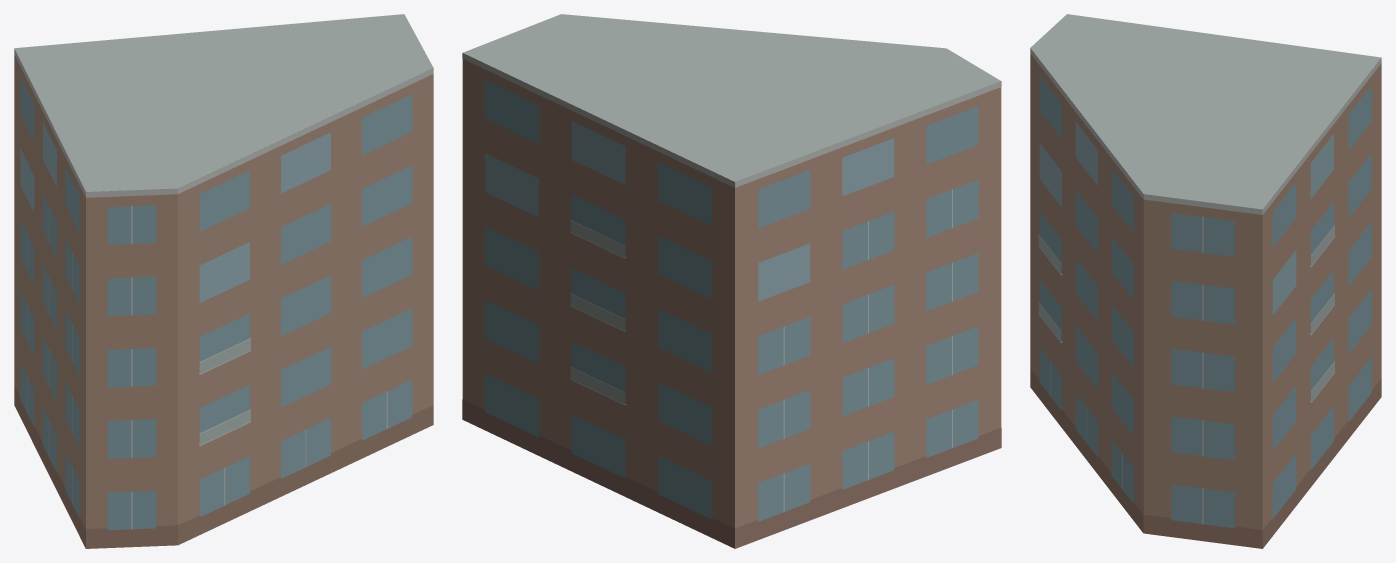
File: survey-upis-32877464.glb
3 renders of one model, left to right at view 1: azimuth 30°, elevation 25°; view 2: azimuth 150°, elevation 25°; view 3: azimuth 270°, elevation 25°, orthographic. The views are drawn at different scales.
Parts seen in each view (by area): view 1: survey-upis-32877464.tmp; view 2: survey-upis-32877464.tmp; view 3: survey-upis-32877464.tmp.
Boxes of the visible parts, box(x1,y1,x2,y2) form: survey-upis-32877464.tmp: box(14, 14, 433, 548); survey-upis-32877464.tmp: box(462, 14, 1001, 548); survey-upis-32877464.tmp: box(1030, 14, 1381, 548).
Bounding box in the file's own units: 18.67 × 15.1 × 14.18.
